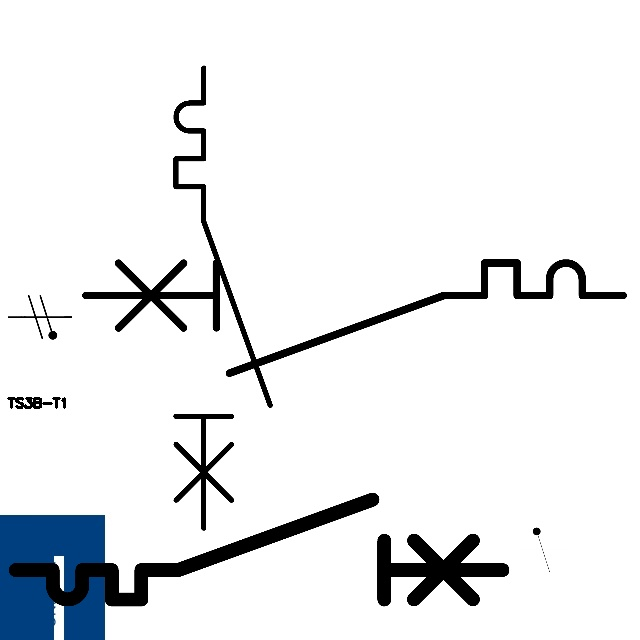interruptor_termomagnetico: (71, 249, 636, 387), (3, 487, 515, 612), (164, 56, 282, 540)
